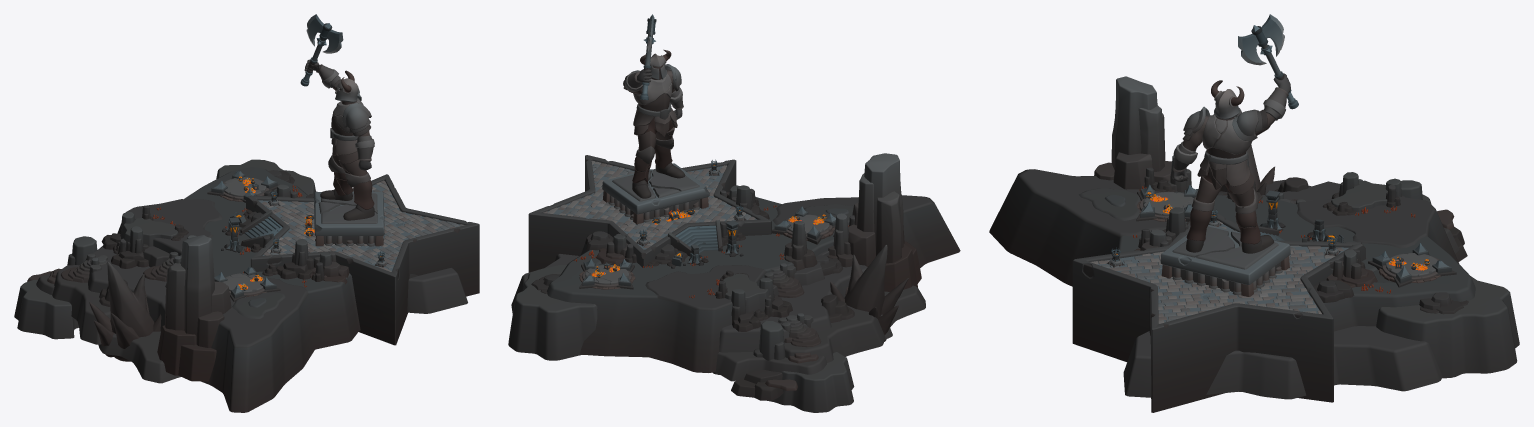
File: lava.glb
3 views of the same model, side by side, from view 1: azimuth 30°, elevation 25°; view 2: azimuth 150°, elevation 25°; view 3: azimuth 270°, elevation 25° (orthographic). The views are drawn at different scales.
Parts seen in each view (by area): view 1: Platform_003.002, PlatformStar_001.005, RockBig_001.001, StatueKnight_002.001, Crag_003.005, PedestalBig_001.001, PlatformSmall_003.010, PlatformSmall_004.003, PlatformSmall_001.013, PlatformSmall_002.011, PlatformSmall_001.012, Axe_001.001 (+12 smaller); view 2: Platform_003.002, PlatformStar_001.005, RockBig_001.001, StatueKnight_002.001, PlatformSmall_003.006, PedestalBig_001.001, PlatformSmall_002.011, PlatformSmall_003.010, Crag_003.005, PlatformSmall_001.013, RockMid_003.007, PlatformSmall_001.011 (+18 smaller); view 3: PlatformStar_001.005, Platform_003.002, PlatformSmall_004.003, StatueKnight_002.001, PlatformSmall_003.006, PedestalBig_001.001, RockBig_001.001, CirclePlatformSmall_001.001, Axe_001.001, CirclePlatformSmall_001.004, PlatformSmall_003.009, RockMid_001.003 (+6 smaller).
Part boxes in pixels (x1=…): Platform_003.002: x1=117, y1=167, x2=418, y2=412; PlatformStar_001.005: x1=246, y1=174, x2=479, y2=345; RockBig_001.001: x1=157, y1=235, x2=231, y2=381; StatueKnight_002.001: x1=304, y1=59, x2=374, y2=220; Crag_003.005: x1=89, y1=261, x2=161, y2=361; PedestalBig_001.001: x1=314, y1=192, x2=384, y2=246; PlatformSmall_003.010: x1=14, y1=280, x2=78, y2=339; PlatformSmall_004.003: x1=316, y1=191, x2=467, y2=313; PlatformSmall_001.013: x1=52, y1=265, x2=110, y2=344; PlatformSmall_002.011: x1=85, y1=246, x2=166, y2=331; PlatformSmall_001.012: x1=98, y1=331, x2=180, y2=383; Axe_001.001: x1=300, y1=14, x2=343, y2=86; Platform_003.002: x1=547, y1=195, x2=960, y2=372; PlatformStar_001.005: x1=528, y1=155, x2=771, y2=272; RockBig_001.001: x1=848, y1=153, x2=921, y2=291; StatueKnight_002.001: x1=623, y1=49, x2=685, y2=198; PlatformSmall_003.006: x1=508, y1=265, x2=597, y2=360; PedestalBig_001.001: x1=602, y1=163, x2=709, y2=224; PlatformSmall_002.011: x1=713, y1=264, x2=867, y2=374; PlatformSmall_003.010: x1=769, y1=352, x2=854, y2=412; Crag_003.005: x1=830, y1=245, x2=908, y2=341; PlatformSmall_001.013: x1=784, y1=305, x2=885, y2=362; RockMid_003.007: x1=731, y1=320, x2=785, y2=400; PlatformSmall_001.011: x1=714, y1=352, x2=826, y2=381; PlatformStar_001.005: x1=1072, y1=212, x2=1365, y2=412; Platform_003.002: x1=989, y1=169, x2=1475, y2=335; PlatformSmall_004.003: x1=1123, y1=326, x2=1442, y2=399; StatueKnight_002.001: x1=1172, y1=73, x2=1290, y2=253; PlatformSmall_003.006: x1=1376, y1=276, x2=1519, y2=378; PedestalBig_001.001: x1=1160, y1=225, x2=1290, y2=296; RockBig_001.001: x1=1094, y1=76, x2=1171, y2=189; CirclePlatformSmall_001.001: x1=1368, y1=243, x2=1456, y2=287; Axe_001.001: x1=1238, y1=14, x2=1298, y2=109; CirclePlatformSmall_001.004: x1=1136, y1=184, x2=1198, y2=221; PlatformSmall_003.009: x1=1331, y1=180, x2=1387, y2=211; RockMid_001.003: x1=1326, y1=250, x2=1377, y2=287.
Size of the model in its own units: 793 by 606 by 823.
Materials: 4 (4 with a texture image).
